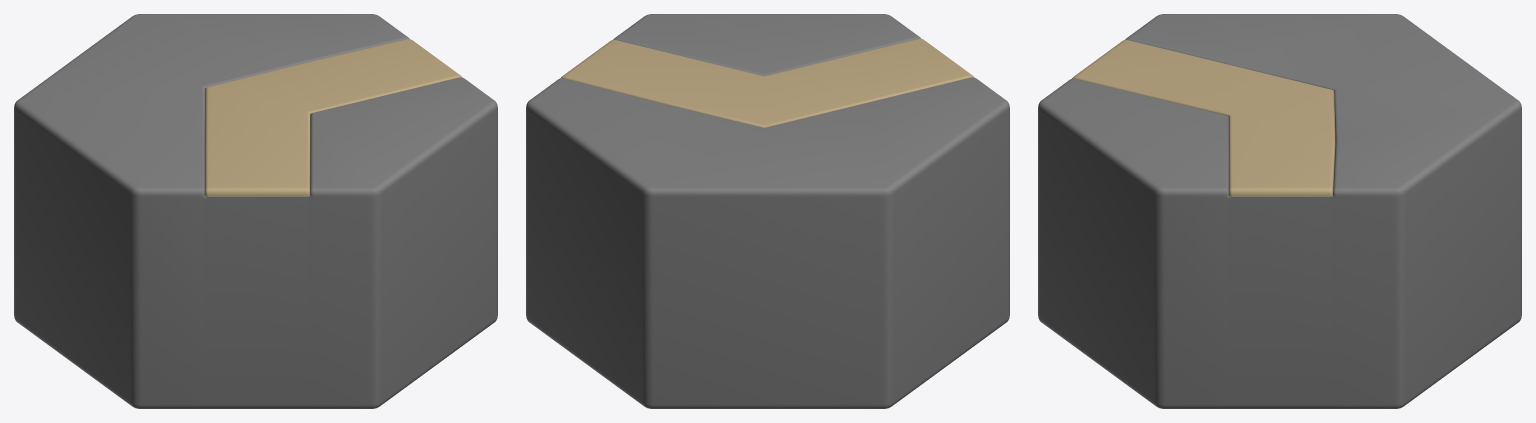
File: Road1.fbx
The picture shows the model from 3 angles, left to right: view 1: azimuth 30°, elevation 25°; view 2: azimuth 150°, elevation 25°; view 3: azimuth 270°, elevation 25°; orthographic projection.
Parts seen in each view (by area): view 1: Cylinder029; view 2: Cylinder029; view 3: Cylinder029.
Part boxes in pixels (x1=…): Cylinder029: x1=14, y1=14, x2=497, y2=408; Cylinder029: x1=526, y1=14, x2=1009, y2=408; Cylinder029: x1=1038, y1=14, x2=1521, y2=408.
Size of the model in its own units: 173 by 100 by 198.
